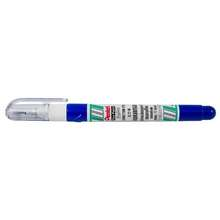Correction_fluid: (5, 97, 217, 123)
